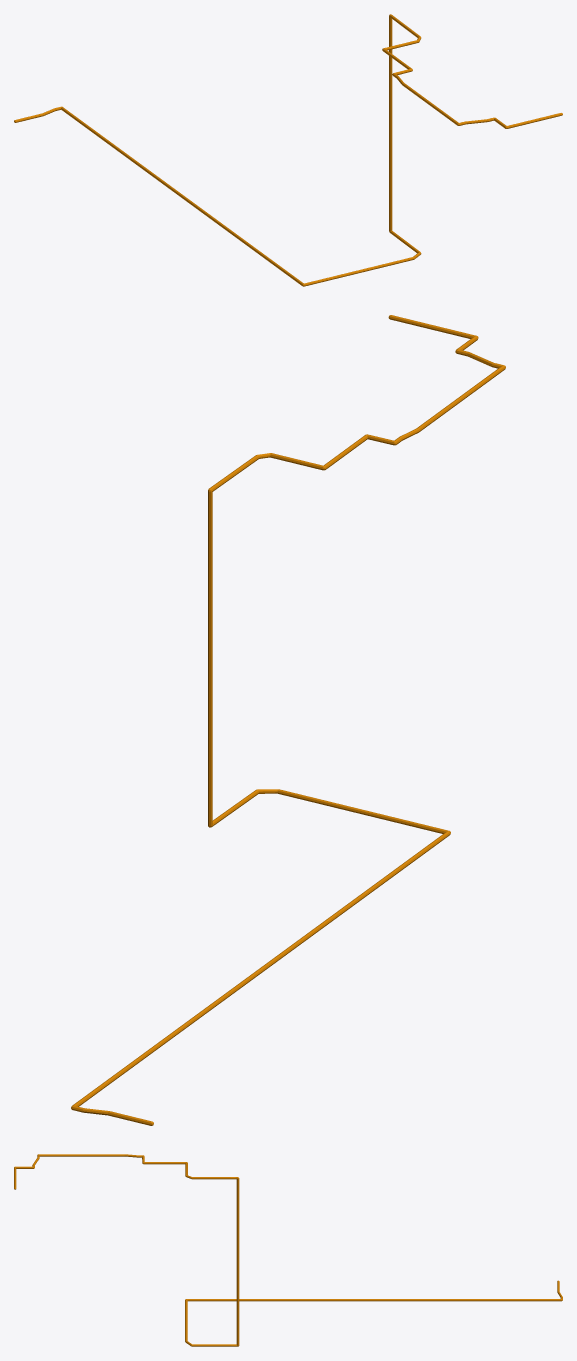
3 renders of one model, top to bottom at view 1: azimuth 30°, elevation 25°; view 2: azimuth 150°, elevation 25°; view 3: azimuth 270°, elevation 25°, orthographic. The views are drawn at different scales.
Size of the model in its own units: 1446 by 1520 by 4460.
